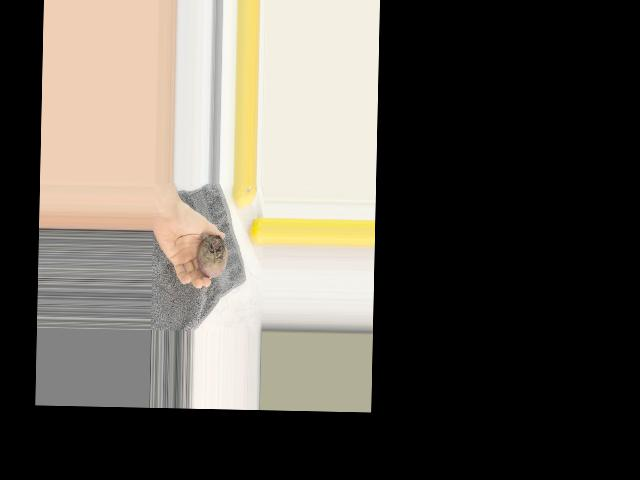beet: (173, 234, 228, 278)
